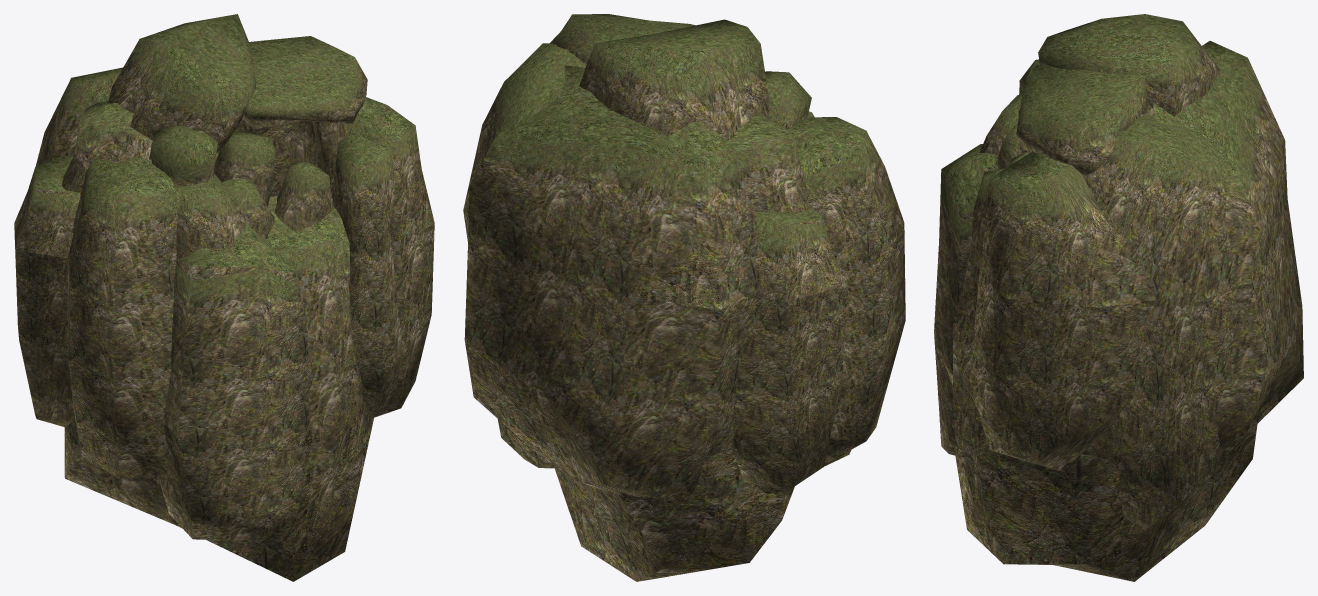
File: poi_all_lair_rancor_dark_large_l1.fbx
3 views of the same model, side by side, from view 1: azimuth 30°, elevation 25°; view 2: azimuth 150°, elevation 25°; view 3: azimuth 270°, elevation 25° (orthographic). The views are drawn at different scales.
Visible parts, largest first — view 1: mesh_node; view 2: mesh_node; view 3: mesh_node.
Part boxes in pixels (<box>): mesh_node: <box>14,14,434,581</box>; mesh_node: <box>463,14,905,581</box>; mesh_node: <box>934,14,1303,581</box>.
Size of the model in its own units: 36.33 by 48.37 by 31.85.
